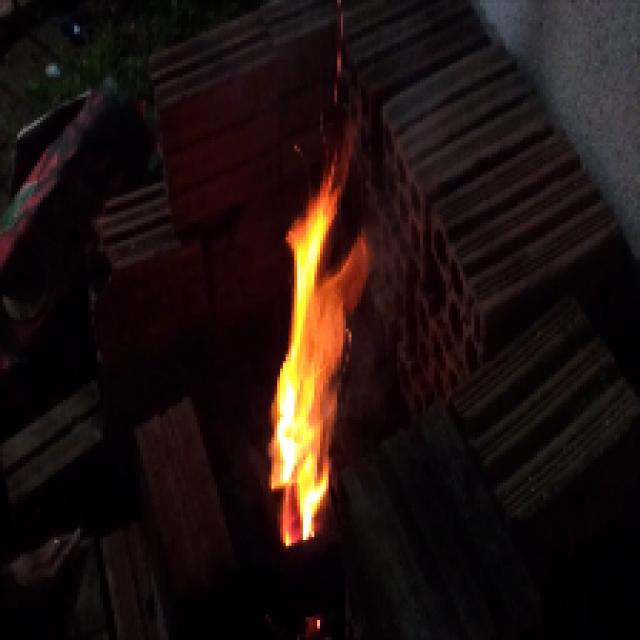fire: (255, 170, 386, 550)
